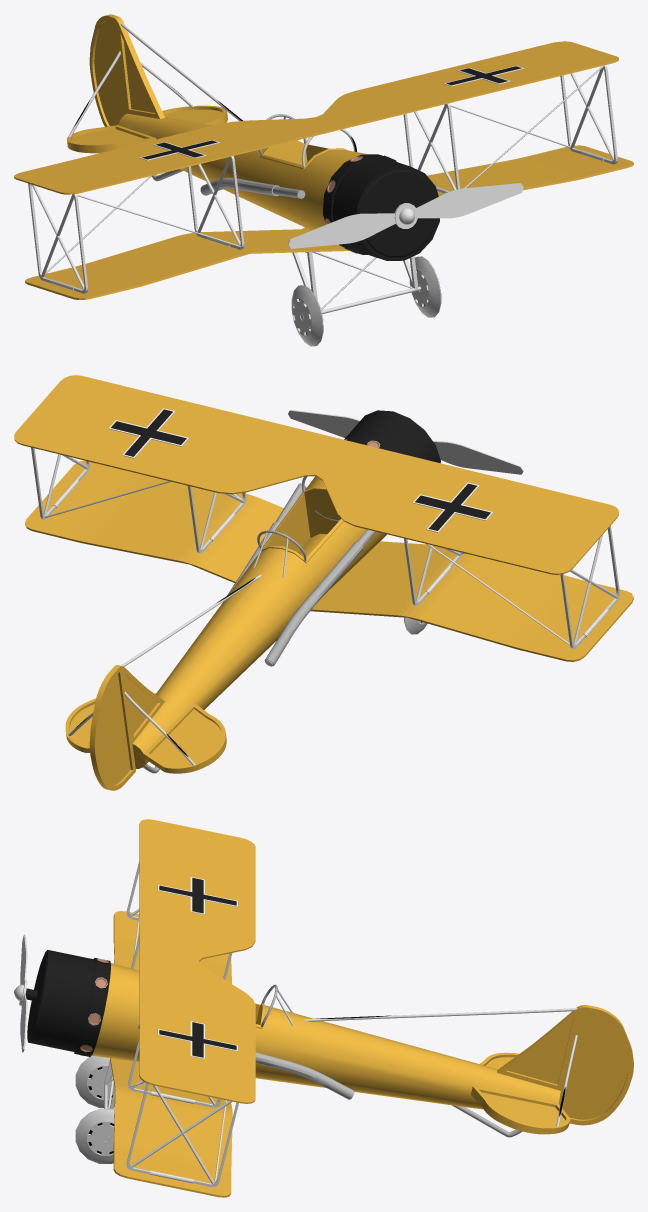
The picture shows the model from 3 angles, top to bottom: view 1: azimuth 30°, elevation 25°; view 2: azimuth 150°, elevation 25°; view 3: azimuth 270°, elevation 25°; orthographic projection. The views are drawn at different scales.
Parts seen in each view (by area): view 1: plane, wing_top, wing_bottom, prop, tires, wing_support_pannel_left, wing_support_pannel_right, cross, pipe_left, BezierCurve.002; view 2: wing_top, wing_bottom, plane, cross, wing_support_pannel_left, prop, wing_support_pannel_right, pipe_left, pipe_right; view 3: plane, wing_top, wing_bottom, tires, wing_support_pannel_right, cross, pipe_right, BezierCurve.002, prop, wing_support_pannel_left.
Boxes of the visible parts, x1=… form: plane: x1=67, y1=14, x2=439, y2=260; wing_top: x1=14, y1=41, x2=618, y2=194; wing_bottom: x1=25, y1=145, x2=633, y2=299; prop: x1=288, y1=183, x2=523, y2=248; tires: x1=291, y1=252, x2=441, y2=346; wing_support_pannel_left: x1=28, y1=156, x2=244, y2=293; wing_support_pannel_right: x1=403, y1=65, x2=617, y2=193; cross: x1=140, y1=65, x2=524, y2=160; pipe_left: x1=200, y1=177, x2=305, y2=198; BezierCurve.002: x1=120, y1=22, x2=242, y2=121; wing_top: x1=14, y1=375, x2=618, y2=574; wing_bottom: x1=25, y1=460, x2=633, y2=661; plane: x1=65, y1=410, x2=440, y2=790; cross: x1=108, y1=408, x2=493, y2=532; wing_support_pannel_left: x1=404, y1=526, x2=619, y2=648; prop: x1=288, y1=410, x2=523, y2=474; wing_support_pannel_right: x1=31, y1=447, x2=246, y2=553; pipe_left: x1=264, y1=529, x2=375, y2=666; pipe_right: x1=227, y1=483, x2=306, y2=595; plane: x1=25, y1=950, x2=633, y2=1134; wing_top: x1=139, y1=819, x2=255, y2=1103; wing_bottom: x1=110, y1=911, x2=232, y2=1197; tires: x1=75, y1=1055, x2=114, y2=1163; wing_support_pannel_right: x1=126, y1=1038, x2=238, y2=1186; cross: x1=157, y1=877, x2=237, y2=1059; pipe_right: x1=138, y1=1024, x2=354, y2=1099; BezierCurve.002: x1=304, y1=1008, x2=577, y2=1021; prop: x1=14, y1=934, x2=27, y2=1052; wing_support_pannel_left: x1=126, y1=861, x2=232, y2=979.
Size of the model in its own units: 13.22 by 4.37 by 13.07.
2 materials, 2 textured.
